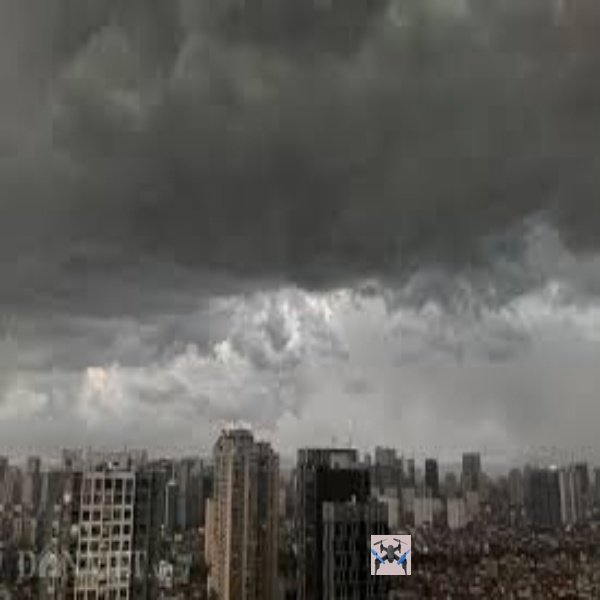drone: (370, 531, 412, 579)
